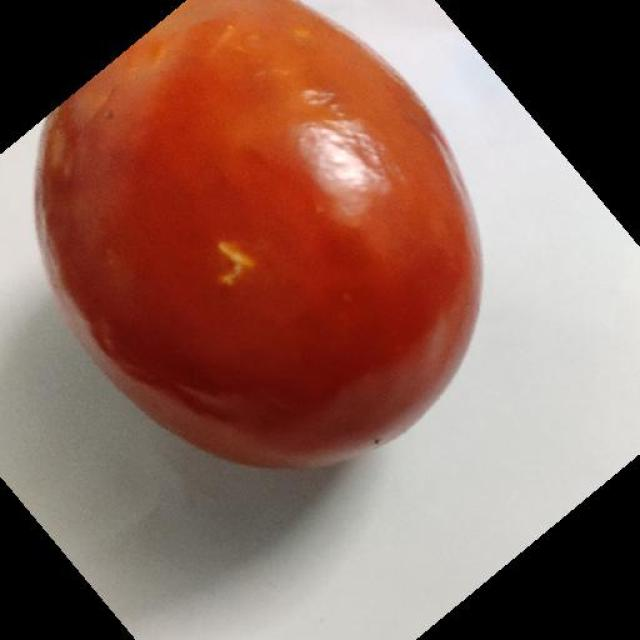Stale_tomato: (0, 0, 534, 466)
